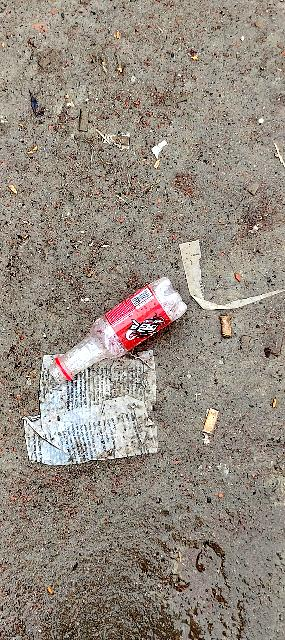bottle: (29, 258, 205, 394)
